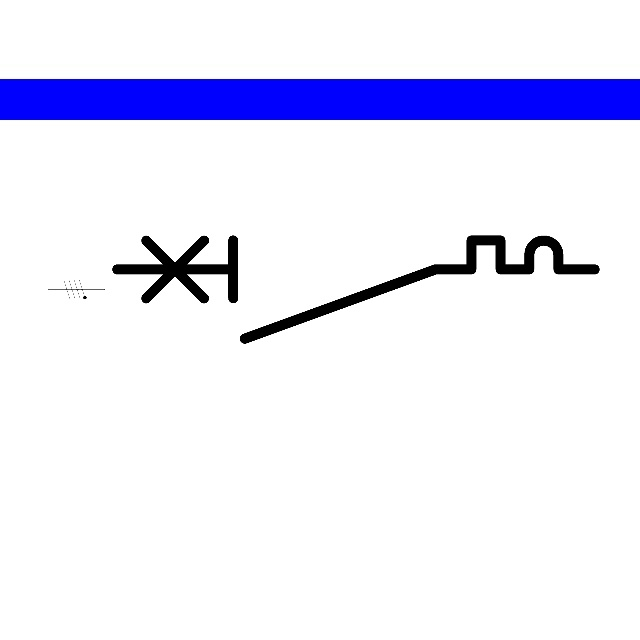interruptor_termomagnetico: (104, 228, 607, 351)
